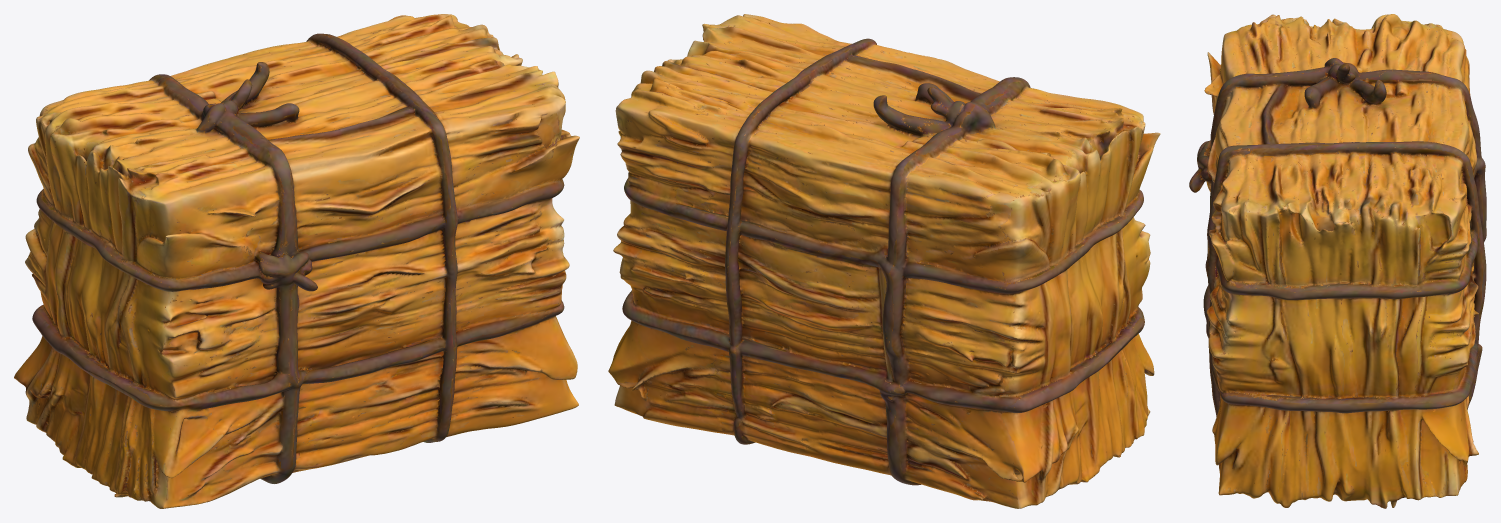
The model's file is hay-bale.glb.
The picture shows the model from 3 angles, left to right: view 1: azimuth 30°, elevation 25°; view 2: azimuth 150°, elevation 25°; view 3: azimuth 270°, elevation 25°; orthographic projection. The views are drawn at different scales.
Size of the model in its own units: 2 by 1.57 by 1.26.
Materials: 1 (1 with a texture image).
